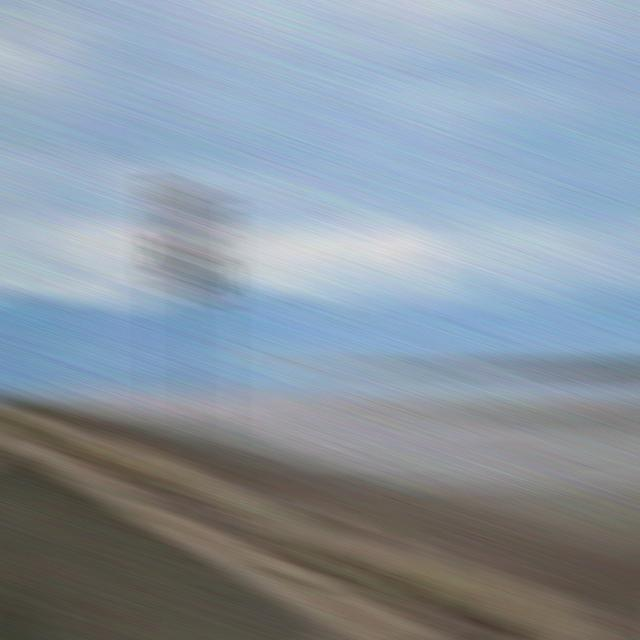speedLimit80: (152, 174, 229, 306)
